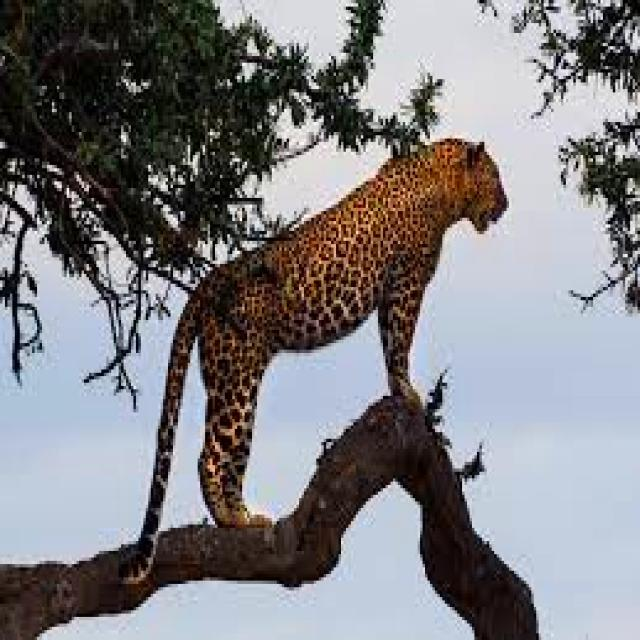leopard: (121, 139, 507, 584)
